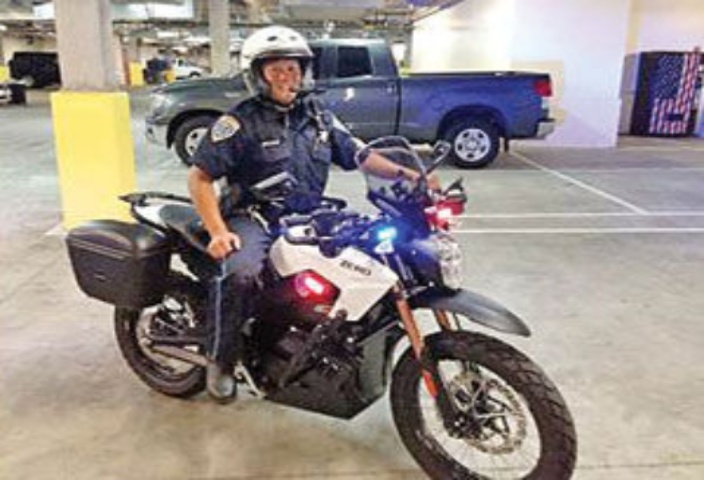camper: (137, 22, 571, 182)
motorcycle: (62, 26, 576, 480)
